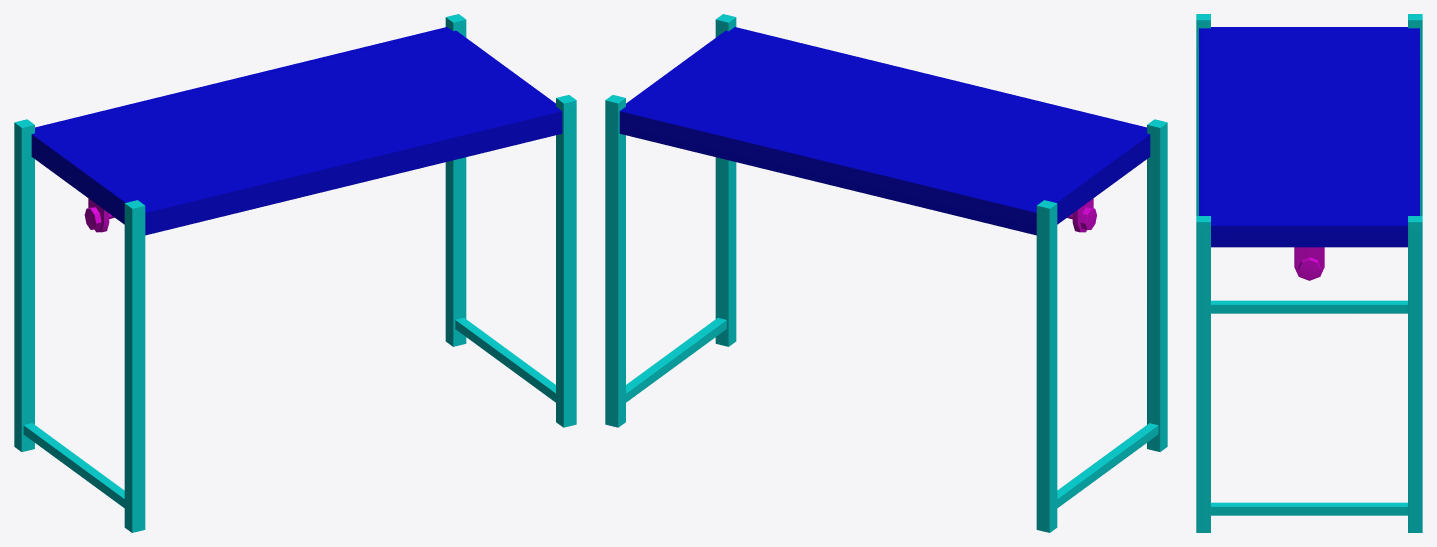
Rendered from CoatRack.fbx.
3 renders of one model, left to right at view 1: azimuth 30°, elevation 25°; view 2: azimuth 150°, elevation 25°; view 3: azimuth 270°, elevation 25°, orthographic. The views are drawn at different scales.
Visible parts, largest first — view 1: clothesRack; view 2: clothesRack; view 3: clothesRack.
Part boxes in pixels (box(x1,y1,x2,y2)): clothesRack: box(14, 14, 576, 532); clothesRack: box(605, 14, 1167, 532); clothesRack: box(1196, 14, 1422, 532).
Bounding box in the file's own units: 6.5 × 4.53 × 2.99.
